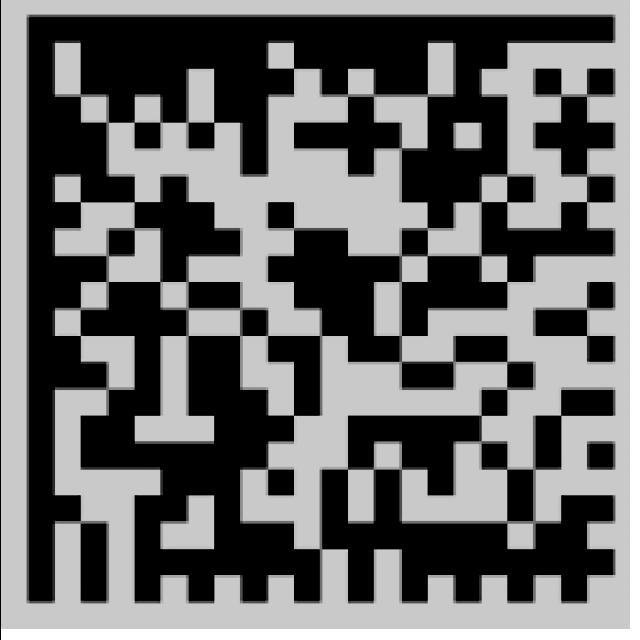Data-Matrix: (0, 0, 629, 629)
